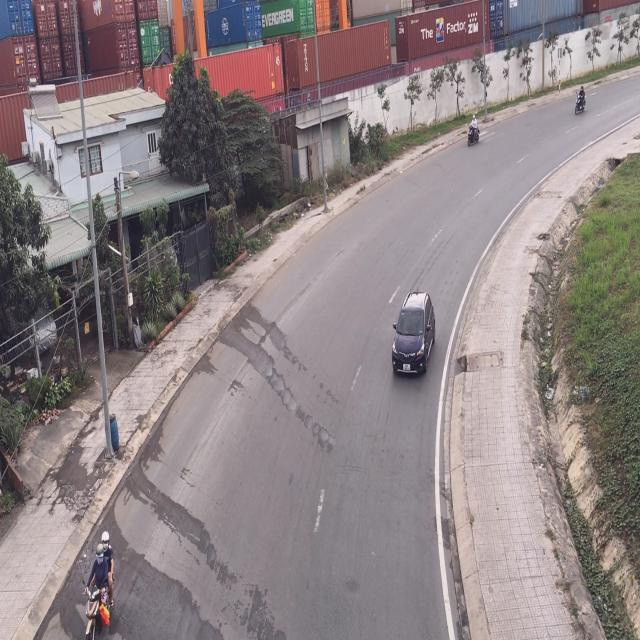car: (393, 293, 437, 379)
motorbike: (79, 530, 116, 638), (464, 110, 480, 148), (574, 83, 586, 115)
